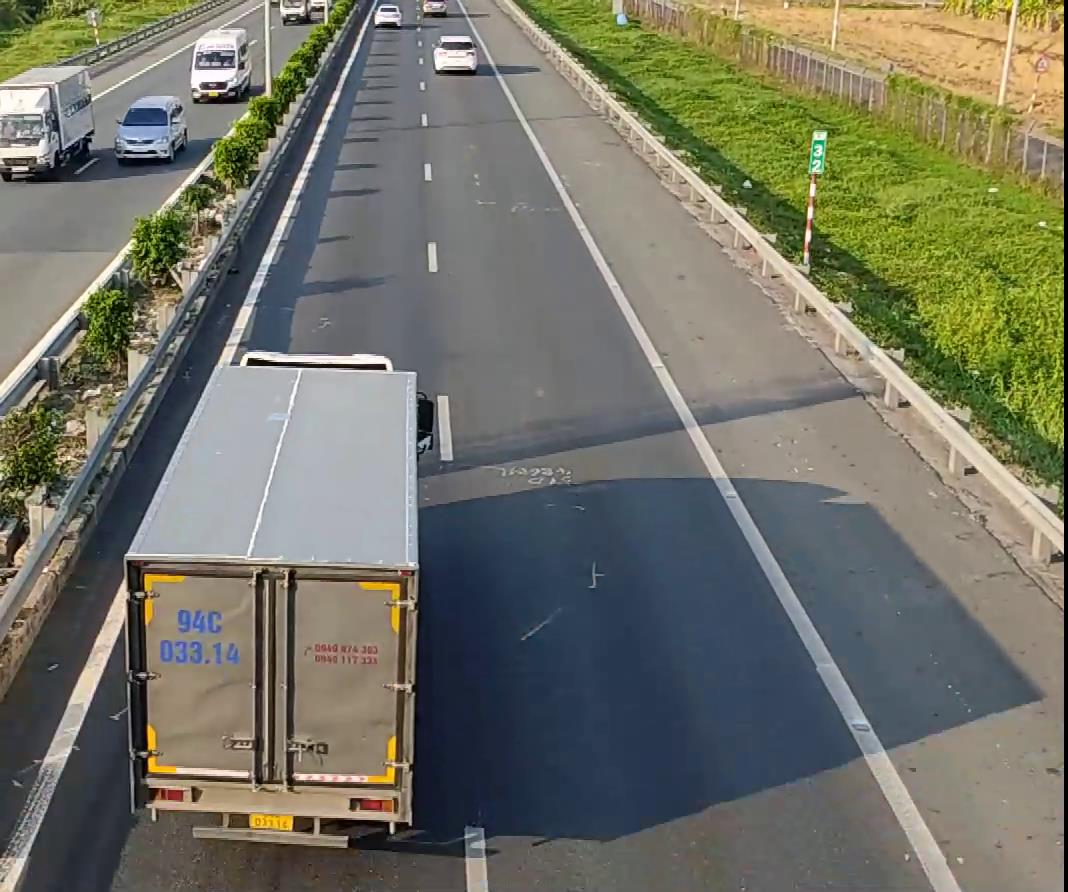car: (114, 94, 189, 163), (189, 26, 251, 101)
truck: (122, 344, 434, 845), (0, 64, 95, 180)
